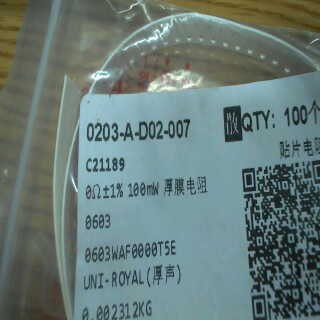0R: (83, 177, 163, 235)
